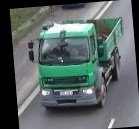truck: (30, 13, 128, 117)
